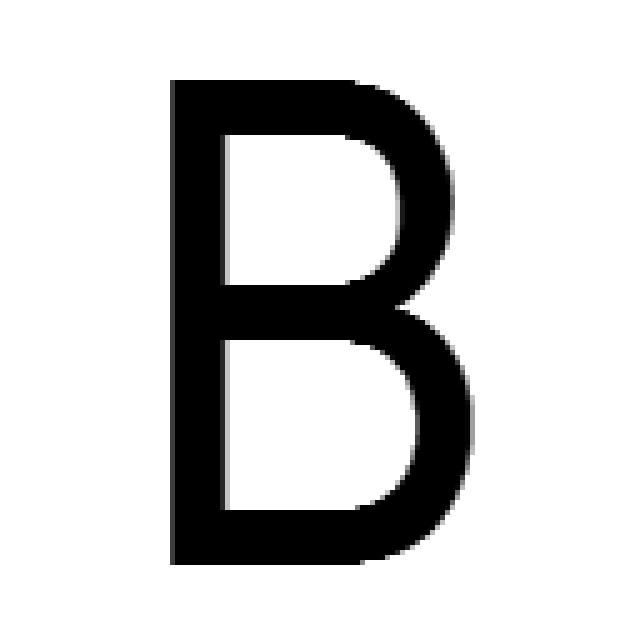B: (165, 80, 475, 570)
